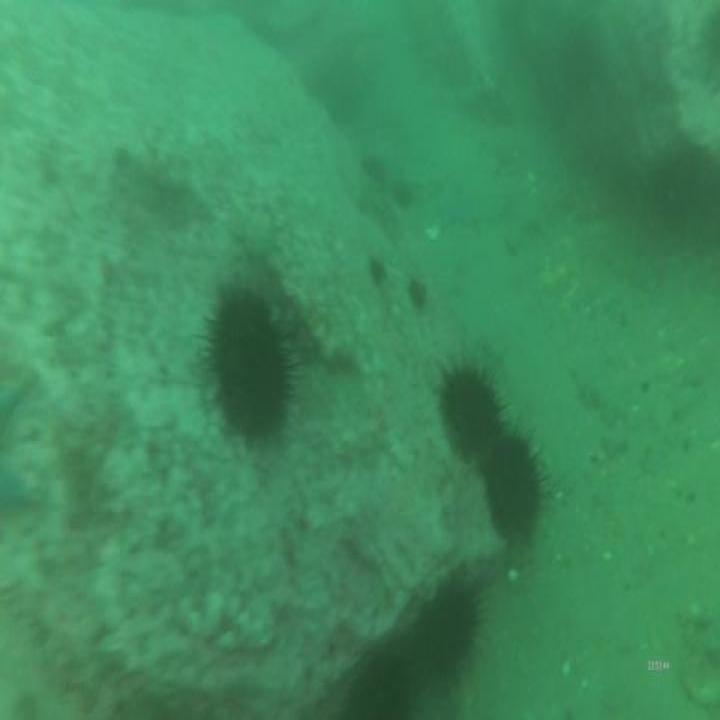echinus: (204, 293, 293, 443), (439, 371, 500, 457), (425, 585, 476, 681), (490, 436, 539, 535), (408, 276, 429, 310), (368, 252, 387, 288), (394, 182, 412, 214), (365, 153, 384, 183)
